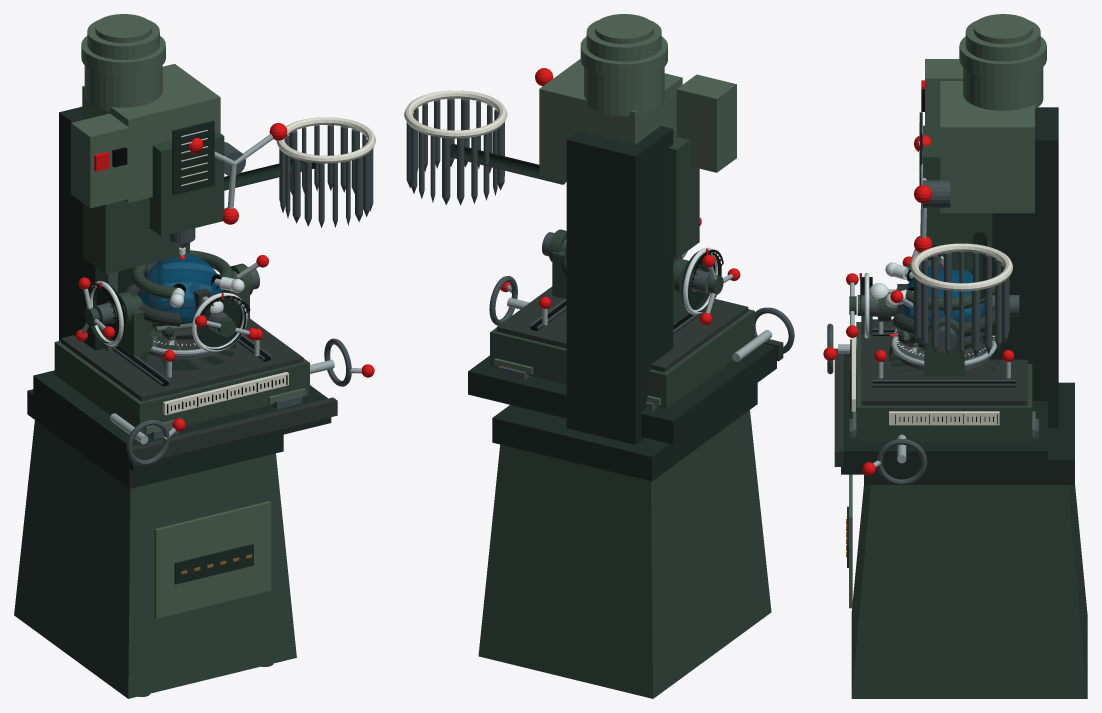
The model's file is drill-machine-reference-model.obj.
3 renders of one model, left to right at view 1: azimuth 30°, elevation 25°; view 2: azimuth 150°, elevation 25°; view 3: azimuth 270°, elevation 25°, orthographic. The views are drawn at different scales.
Parts seen in each view (by area): view 1: cabinet, cabinet_front_panel, upper_slide, head_body, upper_slide_cap, lower_slide, column, head_slide, cabinet_top, head_front, control_box, lower_slide_front_lip (+20 smaller); view 2: cabinet, column, cabinet_top, lower_slide, head_body, upper_slide, control_box, upper_slide_cap, head_slide, motor_lower, bit_rack_ring, motor_cap_rim (+6 smaller); view 3: cabinet, column, head_body, lower_slide, upper_slide_cap, upper_slide, cabinet_top, motor_lower, head_front, bit_rack_ring, motor_cap_rim, upper_scale_side (+21 smaller).
Boxes of the visible parts, x1=… form: cabinet: x1=14, y1=420, x2=296, y2=698; cabinet_front_panel: x1=154, y1=501, x2=271, y2=618; upper_slide: x1=54, y1=340, x2=309, y2=435; head_body: x1=82, y1=64, x2=220, y2=202; upper_slide_cap: x1=61, y1=318, x2=303, y2=401; lower_slide: x1=33, y1=370, x2=331, y2=471; column: x1=59, y1=106, x2=161, y2=350; head_slide: x1=83, y1=198, x2=189, y2=274; cabinet_top: x1=27, y1=389, x2=283, y2=488; head_front: x1=149, y1=130, x2=224, y2=236; control_box: x1=71, y1=113, x2=129, y2=208; lower_slide_front_lip: x1=128, y1=397, x2=337, y2=465; cabinet: x1=478, y1=410, x2=771, y2=698; column: x1=566, y1=126, x2=673, y2=444; cabinet_top: x1=492, y1=383, x2=757, y2=481; lower_slide: x1=468, y1=343, x2=776, y2=444; head_body: x1=539, y1=59, x2=682, y2=181; upper_slide: x1=490, y1=309, x2=754, y2=408; control_box: x1=676, y1=74, x2=736, y2=172; upper_slide_cap: x1=496, y1=286, x2=748, y2=372; head_slide: x1=669, y1=130, x2=699, y2=258; motor_lower: x1=584, y1=67, x2=664, y2=116; bit_rack_ring: x1=404, y1=90, x2=507, y2=138; motor_cap_rim: x1=580, y1=36, x2=667, y2=78; cabinet: x1=851, y1=485, x2=1087, y2=698; column: x1=983, y1=107, x2=1058, y2=428; head_body: x1=940, y1=81, x2=1034, y2=213; lower_slide: x1=841, y1=353, x2=1047, y2=474; upper_slide_cap: x1=861, y1=319, x2=1027, y2=405; upper_slide: x1=856, y1=322, x2=1032, y2=441; cabinet_top: x1=864, y1=382, x2=1074, y2=484; motor_lower: x1=963, y1=67, x2=1043, y2=110; head_front: x1=923, y1=125, x2=967, y2=244; bit_rack_ring: x1=910, y1=243, x2=1012, y2=291; motor_cap_rim: x1=959, y1=36, x2=1046, y2=78; upper_scale_side: x1=889, y1=411, x2=999, y2=425.
Bounding box in the file's own units: 944 × 1795 × 683.
